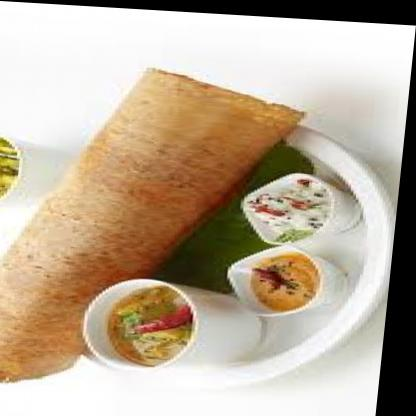dosa: (0, 58, 310, 393)
